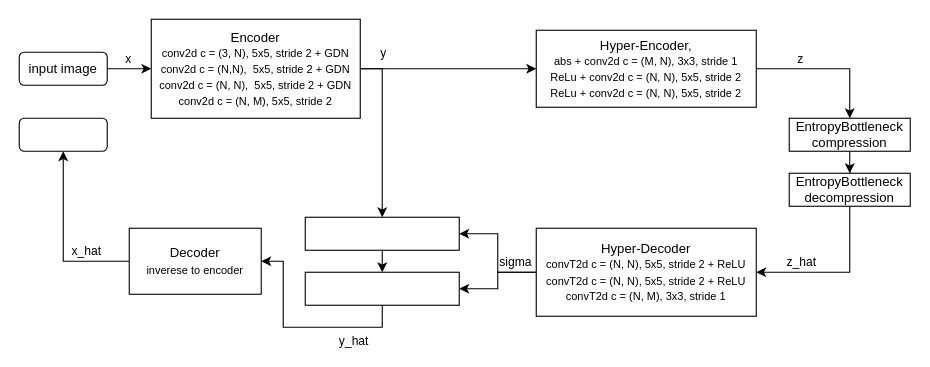
Some shapes in this 930 by 367 pixel diagram are drawn without their labels. The centre of each missing label's shape, as x and y in pixels:
Gaussian Conditional compression: the point at 381,233
Gaussian Conditional decompression: the point at 381,288
reconstruction: the point at 62,134
